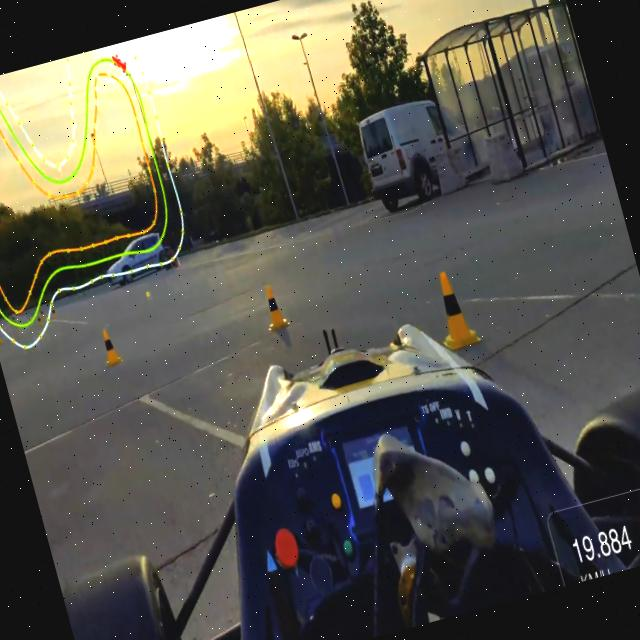yellow_cone: (426, 262, 484, 352), (255, 276, 292, 334), (96, 320, 126, 370), (36, 304, 48, 324), (48, 301, 58, 321), (33, 310, 43, 328), (0, 326, 4, 346)
